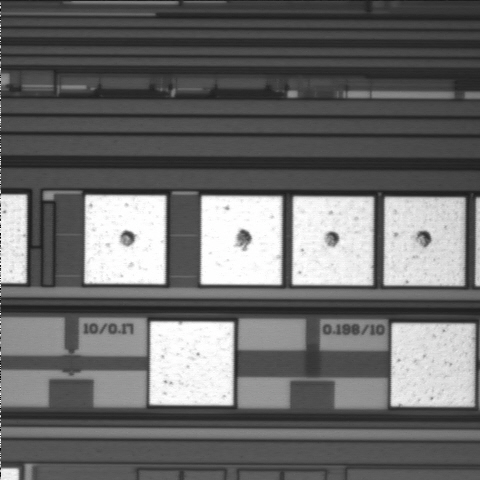pad: (85, 195, 166, 284), (201, 196, 282, 285), (384, 197, 465, 286), (292, 197, 373, 285), (391, 323, 475, 407), (150, 322, 234, 405)
